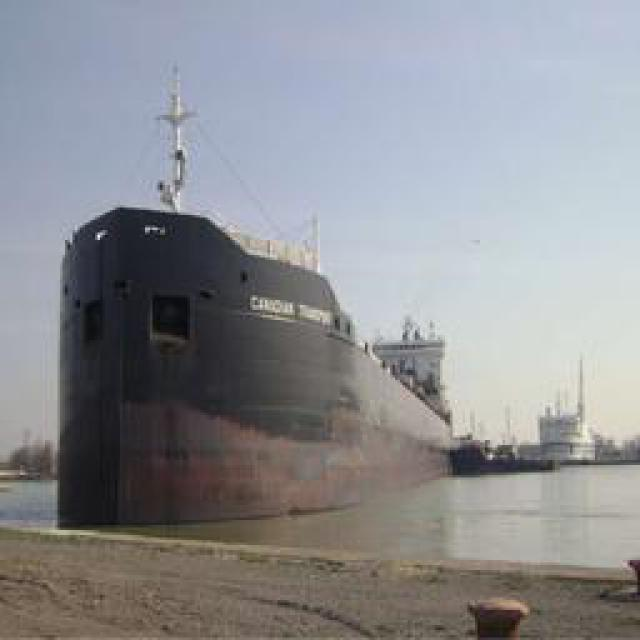Ship: (38, 64, 470, 540)
